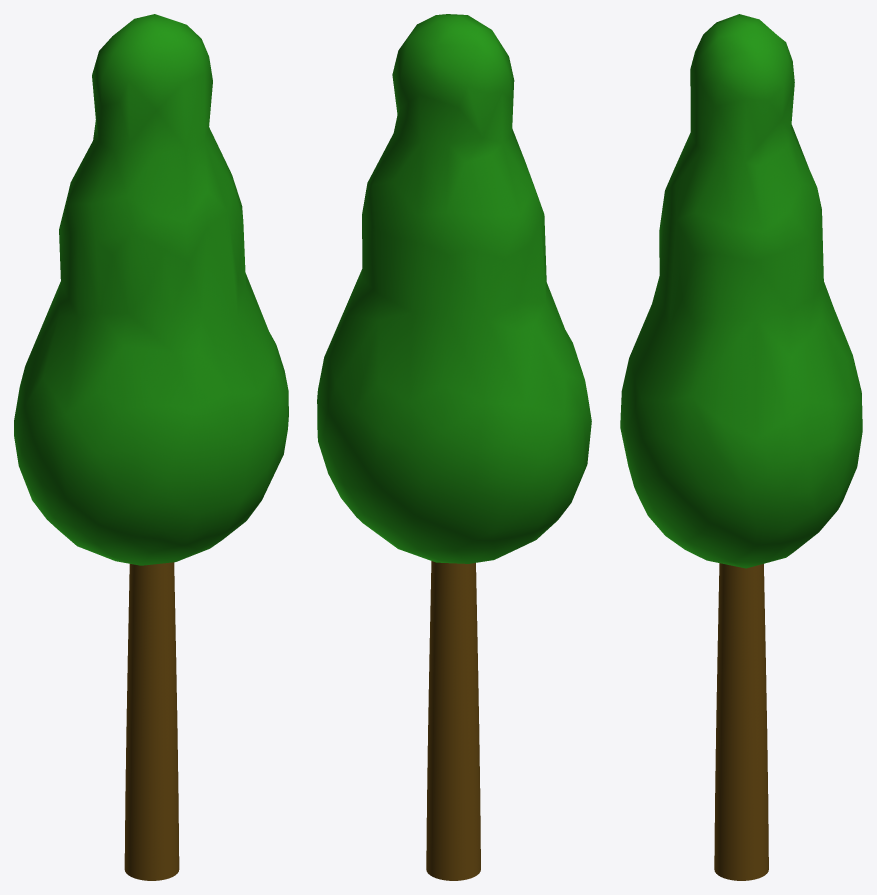
File: Tree2.fbx
The picture shows the model from 3 angles, left to right: view 1: azimuth 30°, elevation 25°; view 2: azimuth 150°, elevation 25°; view 3: azimuth 270°, elevation 25°; orthographic projection.
Visible parts, largest first — view 1: Tree2; view 2: Tree2; view 3: Tree2.
Boxes of the visible parts, x1=… form: Tree2: x1=14, y1=14, x2=288, y2=880; Tree2: x1=317, y1=14, x2=591, y2=880; Tree2: x1=620, y1=14, x2=862, y2=880.
Bounding box in the file's own units: 413 × 1362 × 353.
Materials: 1 (1 with a texture image).
